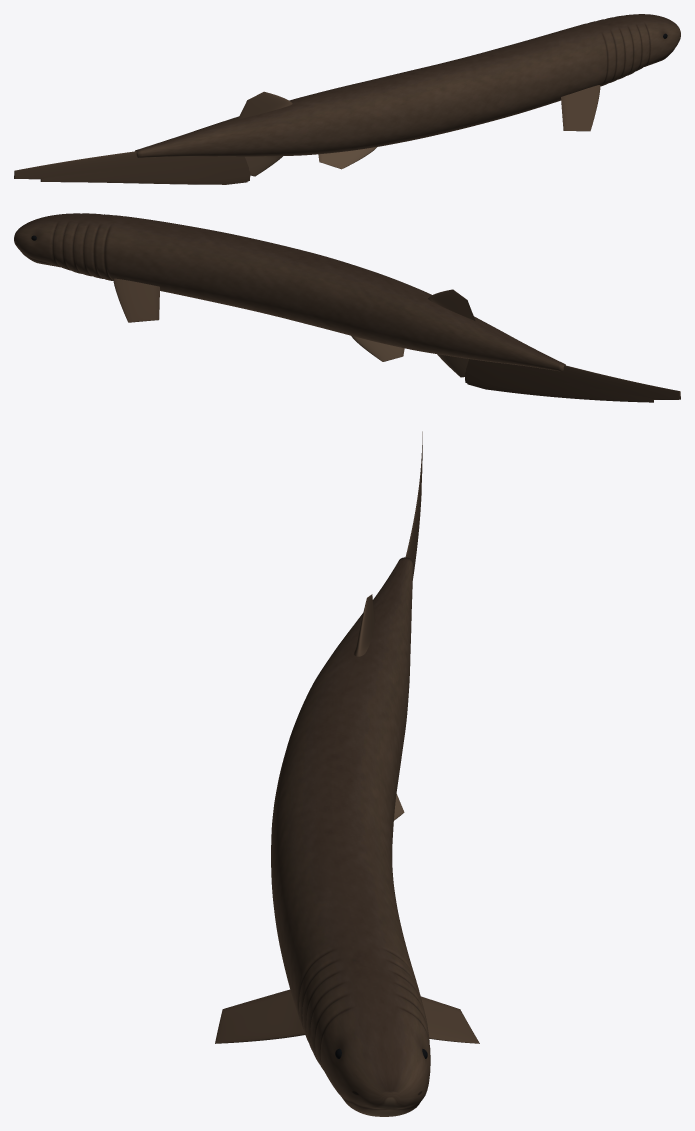
File: frilled_shark.glb
The picture shows the model from 3 angles, top to bottom: view 1: azimuth 30°, elevation 25°; view 2: azimuth 150°, elevation 25°; view 3: azimuth 270°, elevation 25°; orthographic projection. The views are drawn at different scales.
Parts seen in each view (by area): view 1: FrilledShark_Body, FrilledShark_Fins; view 2: FrilledShark_Body, FrilledShark_Fins; view 3: FrilledShark_Body, FrilledShark_Fins.
Boxes of the visible parts, x1=… form: FrilledShark_Body: x1=135, y1=14, x2=680, y2=157; FrilledShark_Fins: x1=14, y1=85, x2=600, y2=184; FrilledShark_Body: x1=14, y1=213, x2=565, y2=371; FrilledShark_Fins: x1=113, y1=278, x2=680, y2=402; FrilledShark_Body: x1=271, y1=557, x2=430, y2=1116; FrilledShark_Fins: x1=215, y1=431, x2=479, y2=1043.
Size of the model in its own units: 1.6 by 0.2049 by 0.28.
3 materials, 1 textured.
